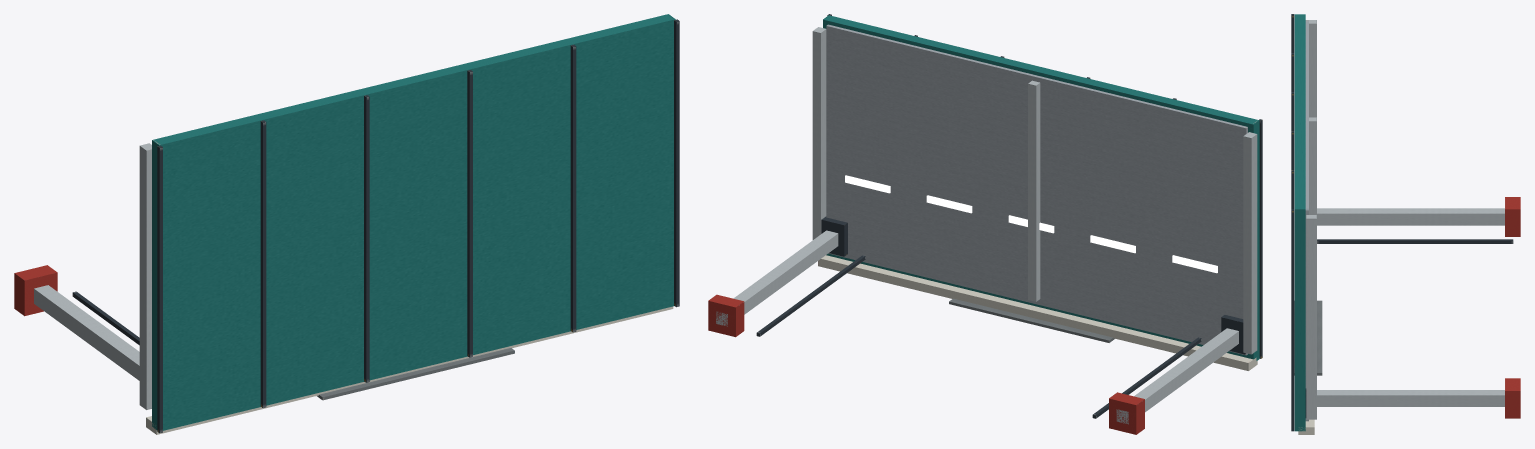
The model's file is MOD_04_CurbsideRoofCanopy_10m.glb.
The picture shows the model from 3 angles, left to right: view 1: azimuth 30°, elevation 25°; view 2: azimuth 150°, elevation 25°; view 3: azimuth 270°, elevation 25°; orthographic projection. The views are drawn at different scales.
Visible parts, largest first — view 1: REN_Canopy_MainRoofDeck, REN_Canopy_RibStandingSeams, REN_Canopy_RoofCrossBeam, REN_Canopy_ColumnSteelCore, REN_Canopy_GutterFront, REN_Canopy_NorthpointSignBacking, REN_Canopy_ColumnFooting; view 2: REN_Canopy_UndersideLiner, REN_Canopy_RoofCrossBeam, REN_Canopy_MainRoofDeck, REN_Canopy_GutterFront, REN_Canopy_ColumnSteelCore, REN_Canopy_ColumnFooting, REN_Canopy_Downlights, REN_Canopy_DrainDownpipes, REN_Canopy_NorthpointSignBacking, REN_Canopy_ColumnHead, REN_Canopy_RibStandingSeams; view 3: REN_Canopy_ColumnSteelCore, REN_Canopy_MainRoofDeck, REN_Canopy_RoofCrossBeam, REN_Canopy_RibStandingSeams, REN_Canopy_ColumnFooting, REN_Canopy_UndersideLiner, REN_Canopy_DrainDownpipes, REN_Canopy_NorthpointSignBacking.
Boxes of the visible parts, x1=… form: REN_Canopy_MainRoofDeck: x1=152, y1=14, x2=675, y2=430; REN_Canopy_RibStandingSeams: x1=157, y1=19, x2=679, y2=433; REN_Canopy_RoofCrossBeam: x1=139, y1=143, x2=151, y2=409; REN_Canopy_ColumnSteelCore: x1=34, y1=285, x2=139, y2=380; REN_Canopy_GutterFront: x1=146, y1=306, x2=673, y2=434; REN_Canopy_NorthpointSignBacking: x1=317, y1=348, x2=514, y2=400; REN_Canopy_ColumnFooting: x1=14, y1=265, x2=57, y2=316; REN_Canopy_UndersideLiner: x1=826, y1=24, x2=1247, y2=355; REN_Canopy_RoofCrossBeam: x1=812, y1=27, x2=1257, y2=354; REN_Canopy_MainRoofDeck: x1=823, y1=15, x2=1259, y2=360; REN_Canopy_GutterFront: x1=818, y1=255, x2=1257, y2=370; REN_Canopy_ColumnSteelCore: x1=716, y1=230, x2=1238, y2=424; REN_Canopy_ColumnFooting: x1=708, y1=294, x2=1144, y2=434; REN_Canopy_Downlights: x1=845, y1=175, x2=1217, y2=273; REN_Canopy_DrainDownpipes: x1=756, y1=255, x2=1201, y2=418; REN_Canopy_NorthpointSignBacking: x1=949, y1=298, x2=1114, y2=342; REN_Canopy_ColumnHead: x1=821, y1=216, x2=1245, y2=354; REN_Canopy_RibStandingSeams: x1=827, y1=14, x2=1262, y2=358; REN_Canopy_ColumnSteelCore: x1=1317, y1=208, x2=1504, y2=406; REN_Canopy_MainRoofDeck: x1=1294, y1=14, x2=1305, y2=431; REN_Canopy_RoofCrossBeam: x1=1306, y1=20, x2=1316, y2=419; REN_Canopy_RibStandingSeams: x1=1291, y1=14, x2=1294, y2=431; REN_Canopy_ColumnFooting: x1=1505, y1=197, x2=1520, y2=418; REN_Canopy_UndersideLiner: x1=1305, y1=20, x2=1308, y2=421; REN_Canopy_DrainDownpipes: x1=1317, y1=239, x2=1513, y2=243; REN_Canopy_NorthpointSignBacking: x1=1294, y1=300, x2=1322, y2=375.
Bounding box in the file's own units: 10.19 × 5.45 × 4.97.
Materials: 3 (2 with a texture image).
